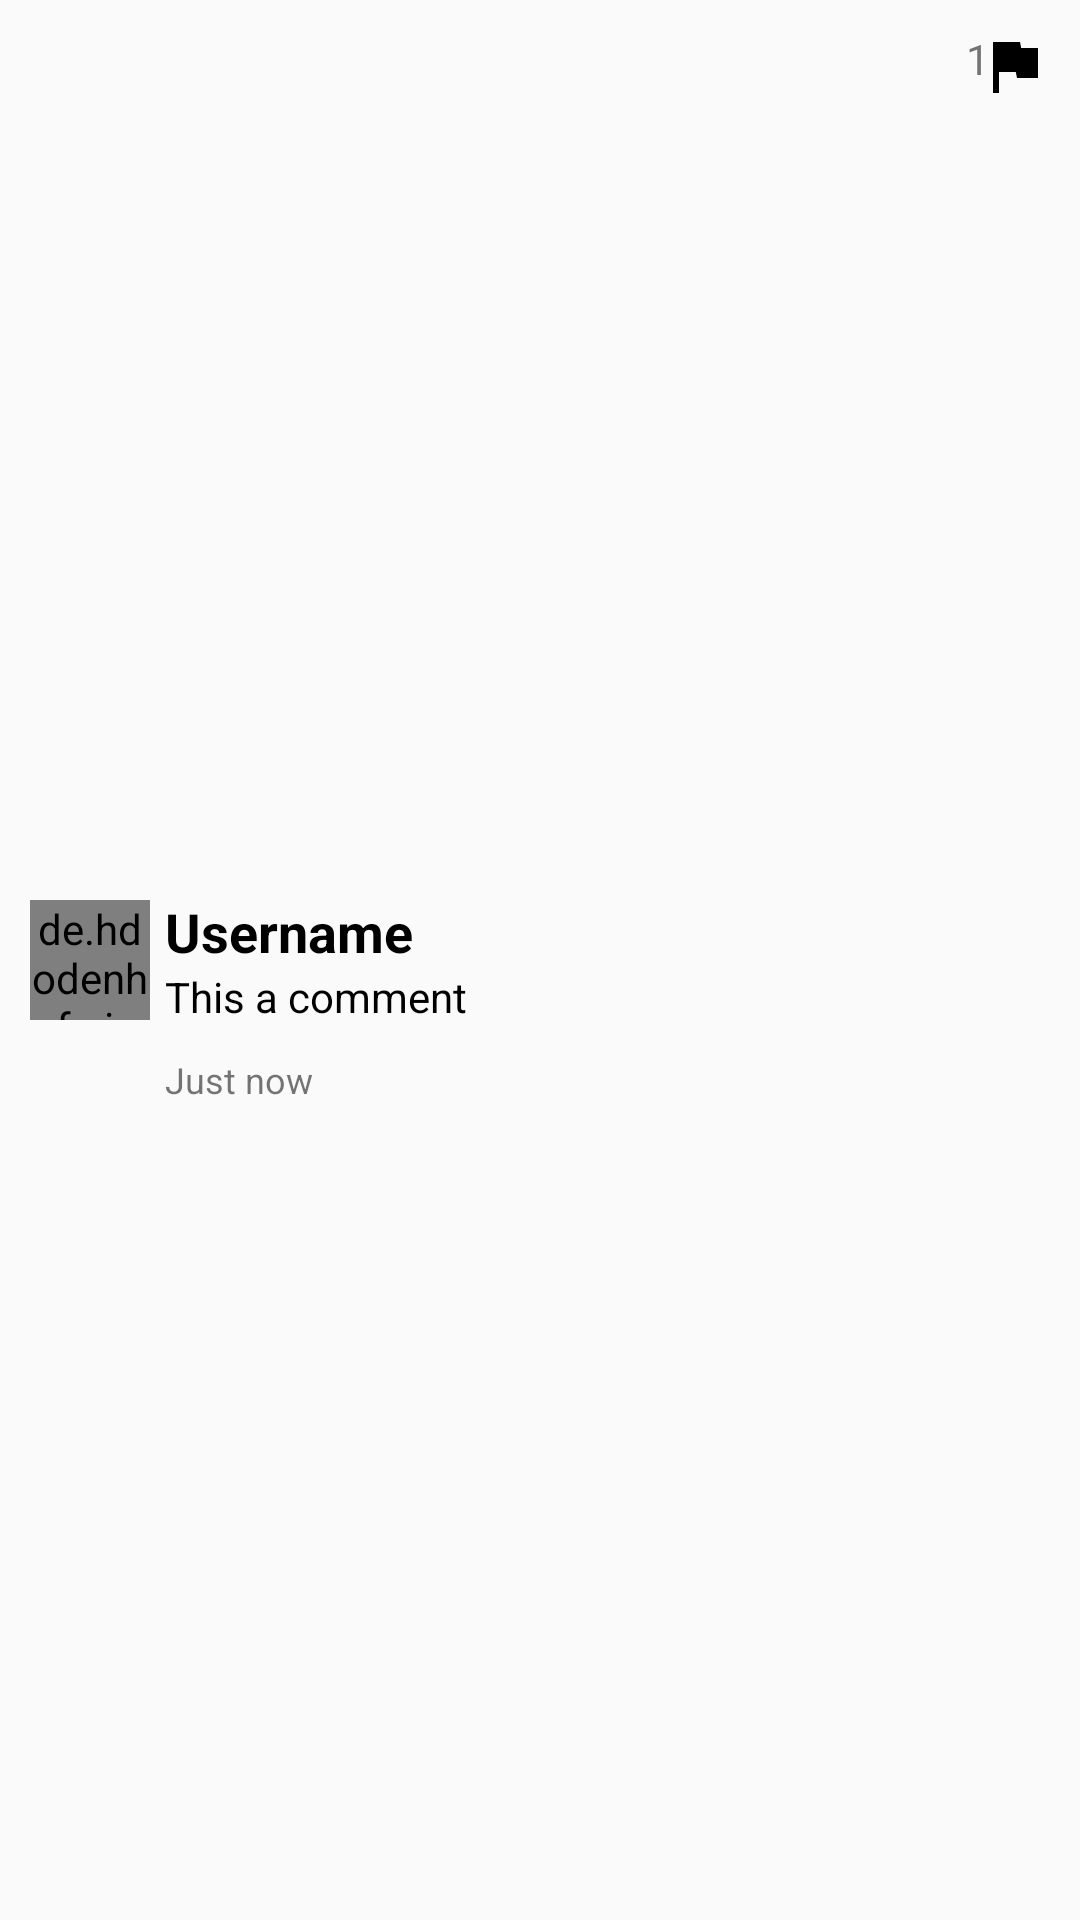

Locate icon controls on the screen. Image size 1080px x 1920px, boxes as BBox(x1, y1, x2, y2).
flag: BBox(993, 42, 1038, 93)
